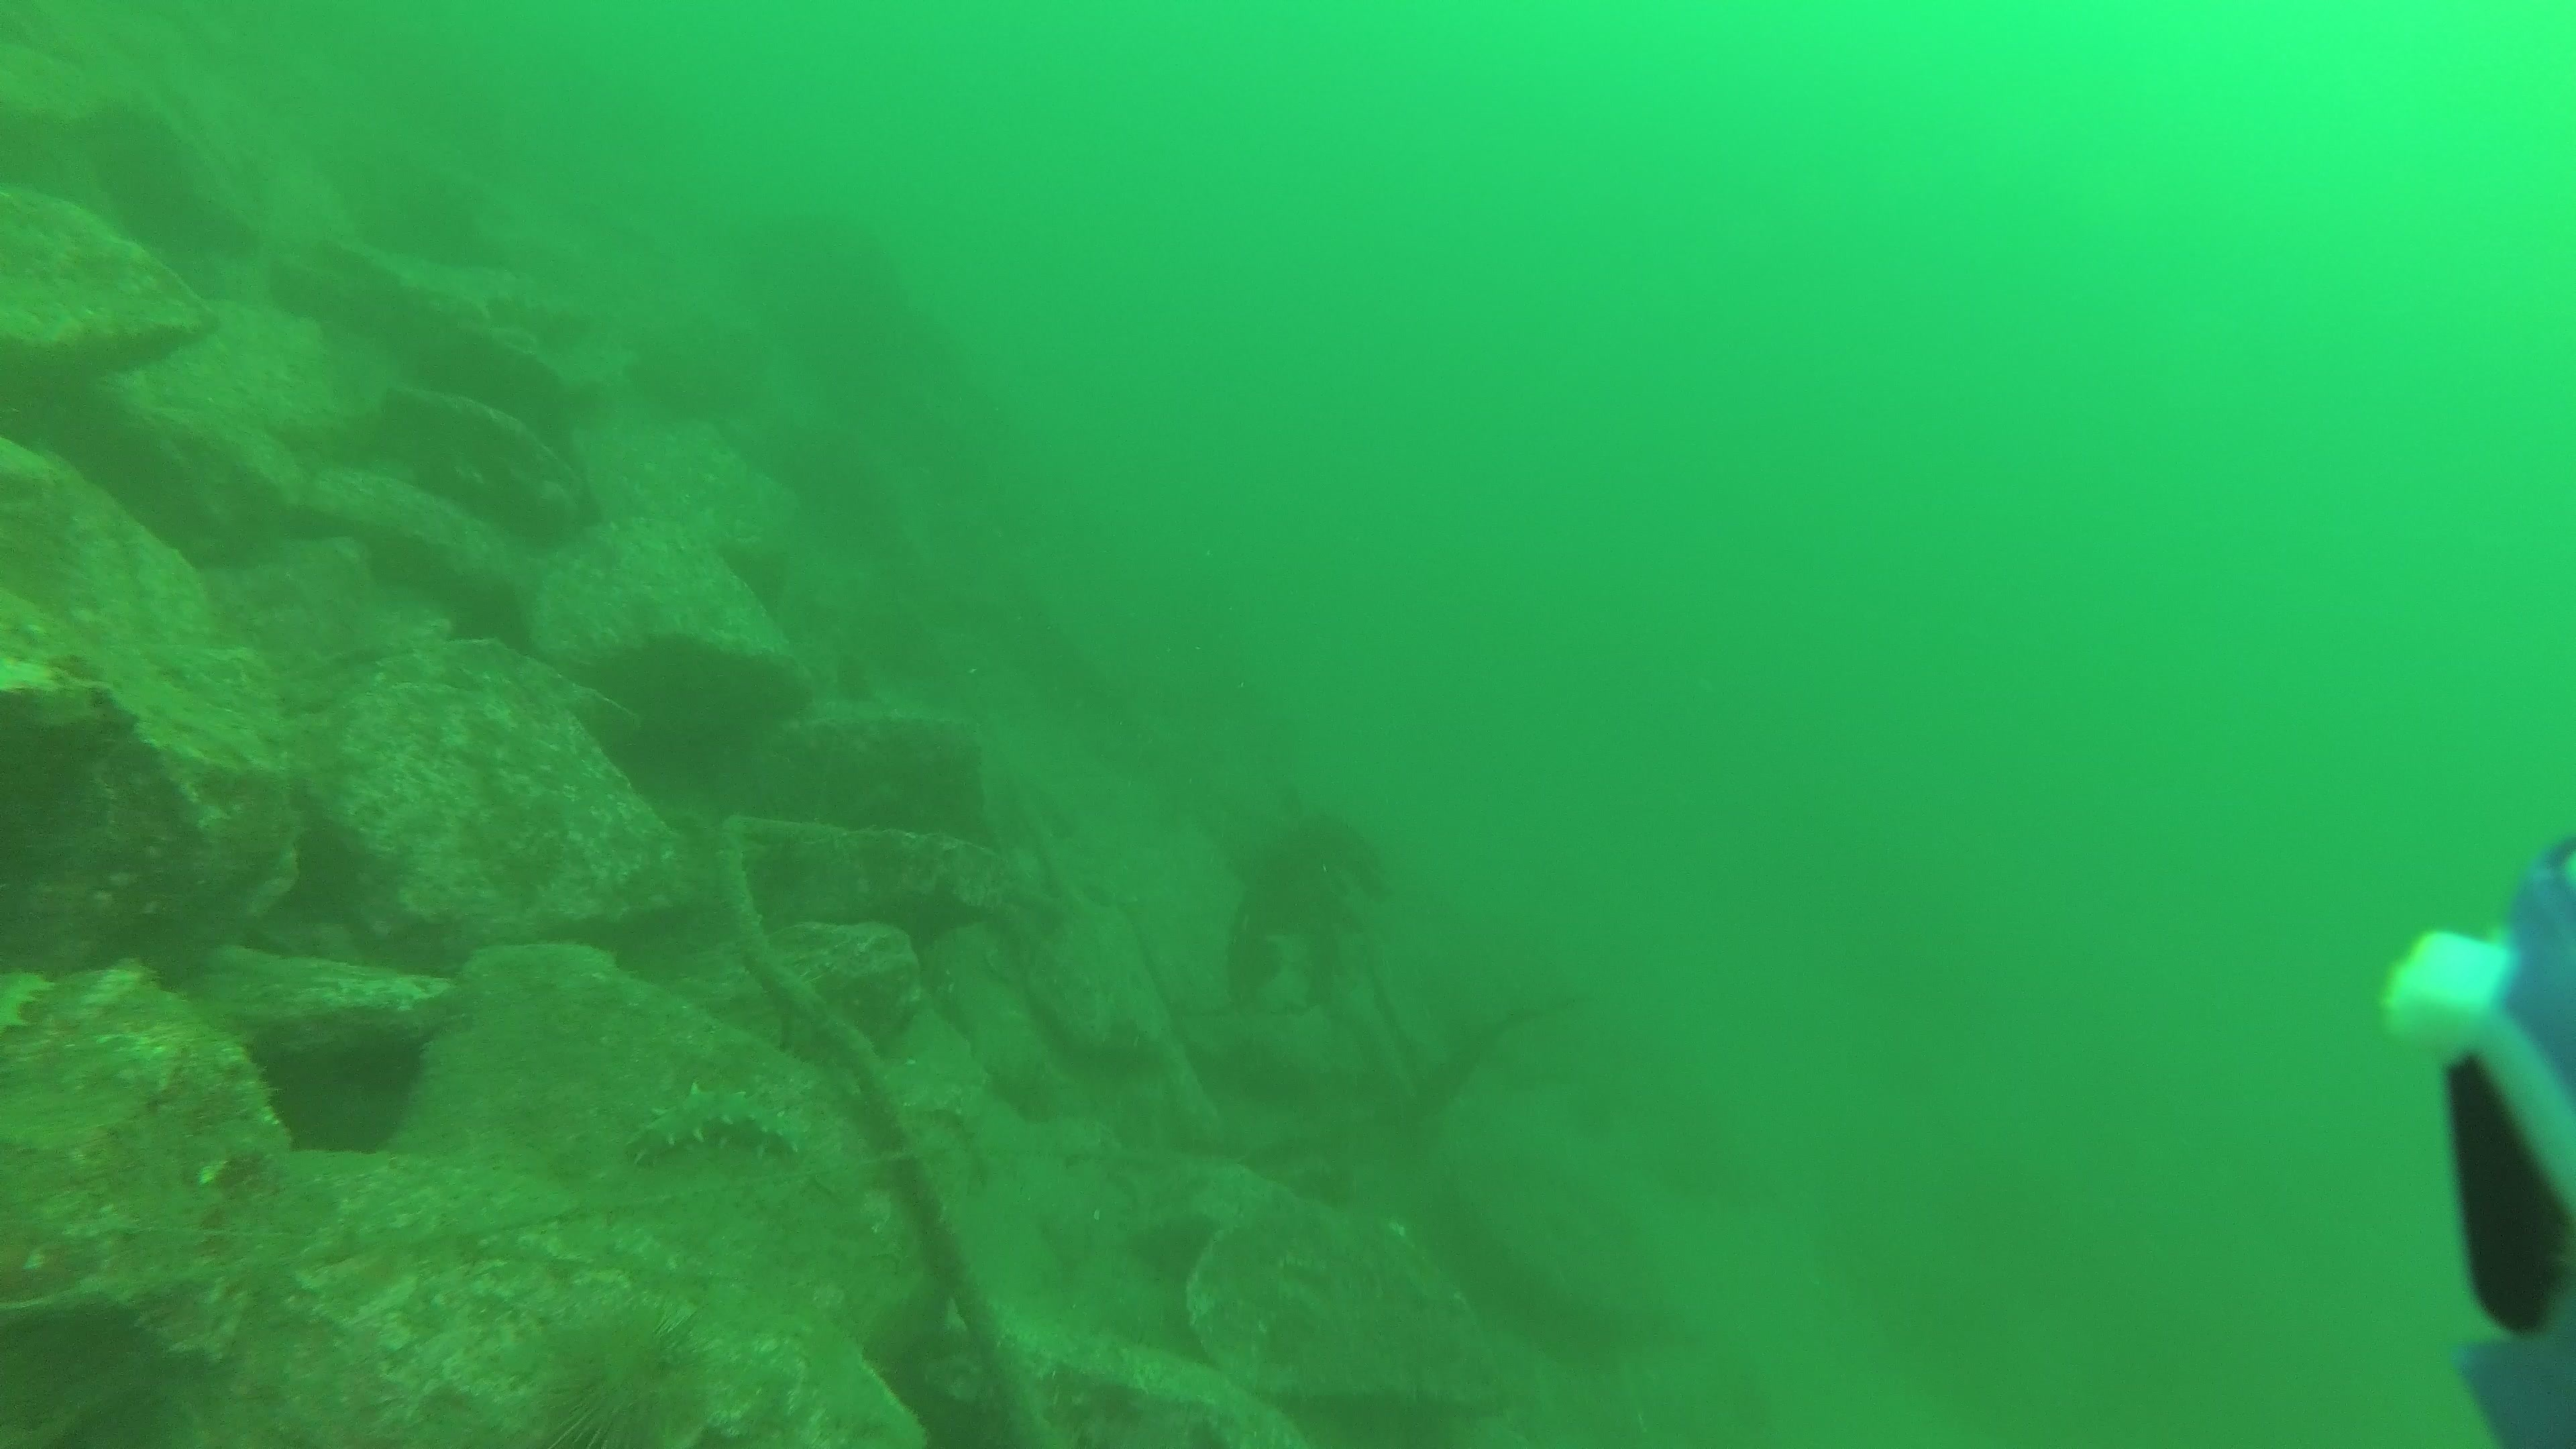holothurian: (623, 1076, 819, 1180)
